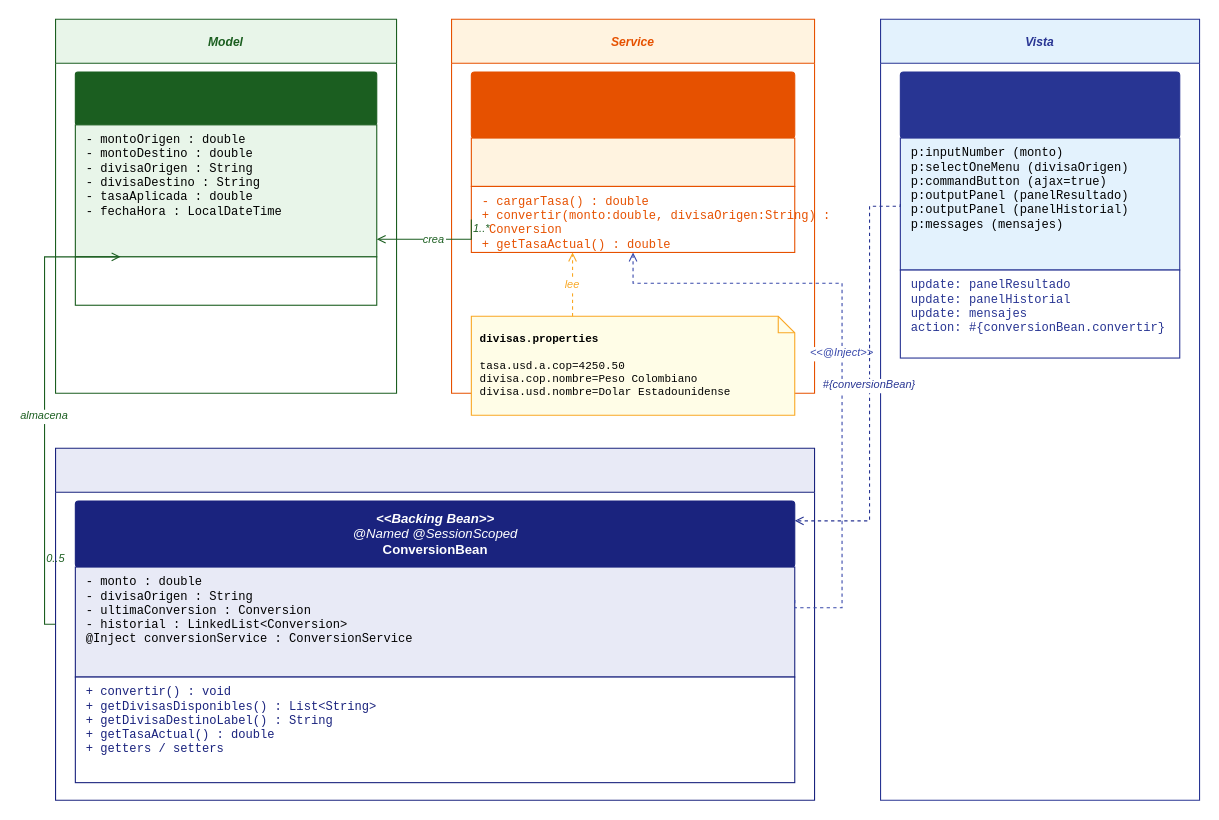
This 1219x820 diagram has some shape labels left out. The shapes that lost their labels are listed below. From the top down, each one's box as (x1, y1, x2, y2) in pixels, then its label:
(74, 71, 377, 125): <<Model>> Conversion
(470, 71, 795, 138): <<Service>> @ApplicationScoped ConversionService
(899, 71, 1180, 138): <<View>> Facelets + PrimeFaces index.xhtml
(470, 137, 795, 186): ~ PROP_FILE : String ~ KEY_TASA : String
(74, 256, 377, 305): + getDescripcion() : String + getters / setters
(54, 447, 815, 800): Bean divisas
